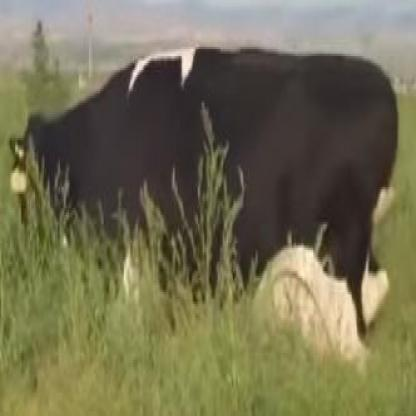cow: (8, 47, 399, 341)
